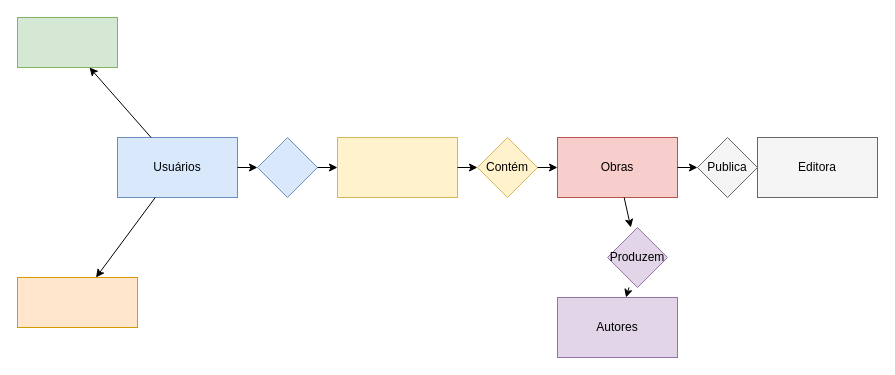
This 895x375 diagram has some shape labels left out. Here are the shapes that lost their labels. From the top down, the centre of each, then its label:
At [67,42]: "Aluno".
At [287,167]: "faz".
At [397,167]: "Empréstimos".
At [77,302]: "Funcionários".
